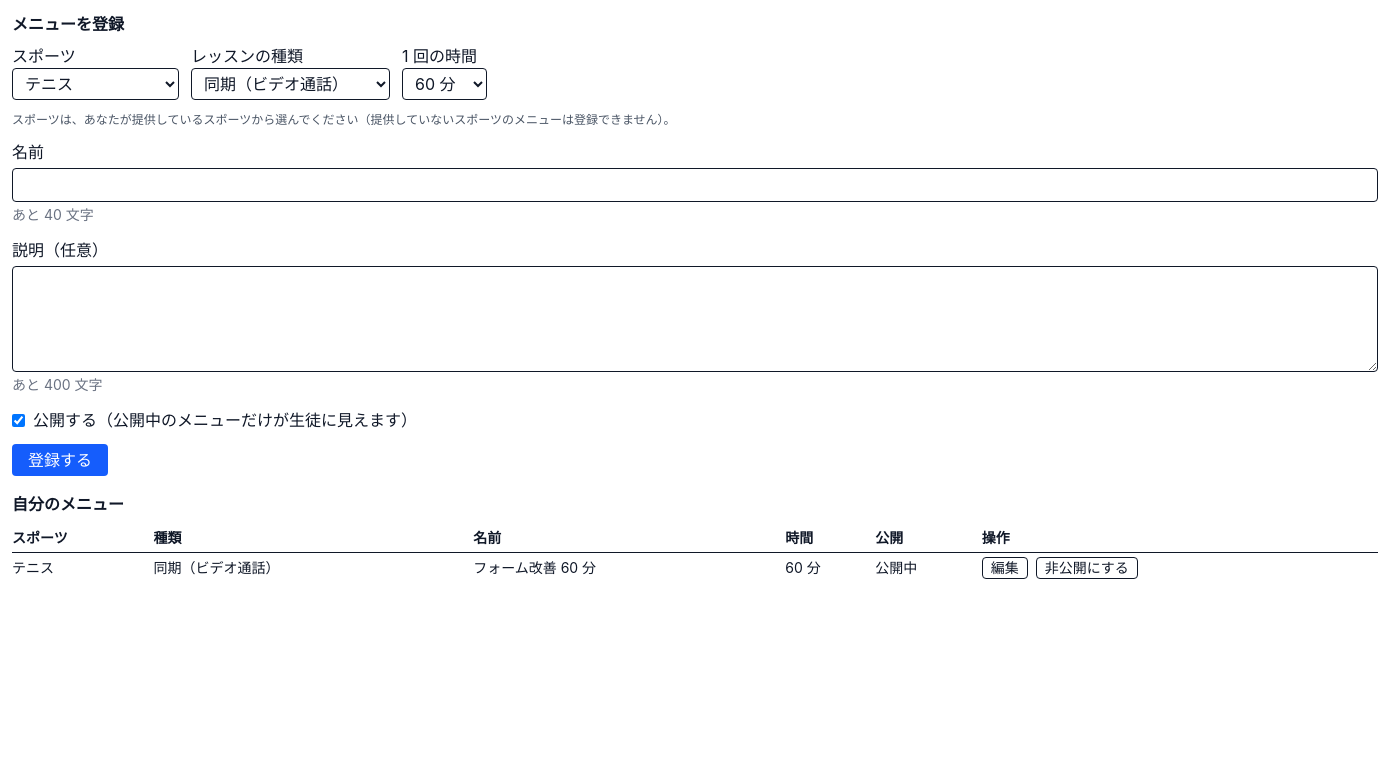
レッスンメニュー › 作成: 入力を createMyLessonMenu に送り、登録した旨を出して一覧を取り直し、欄を空にする
The width and height of the screenshot is (1390, 780).
Expected: the table named "自分のメニュー" is shown, [12,524,1378,583]
Select "サッカー" in the dropdown labelled "スポーツ" at (96, 84), box [12,68,179,100]
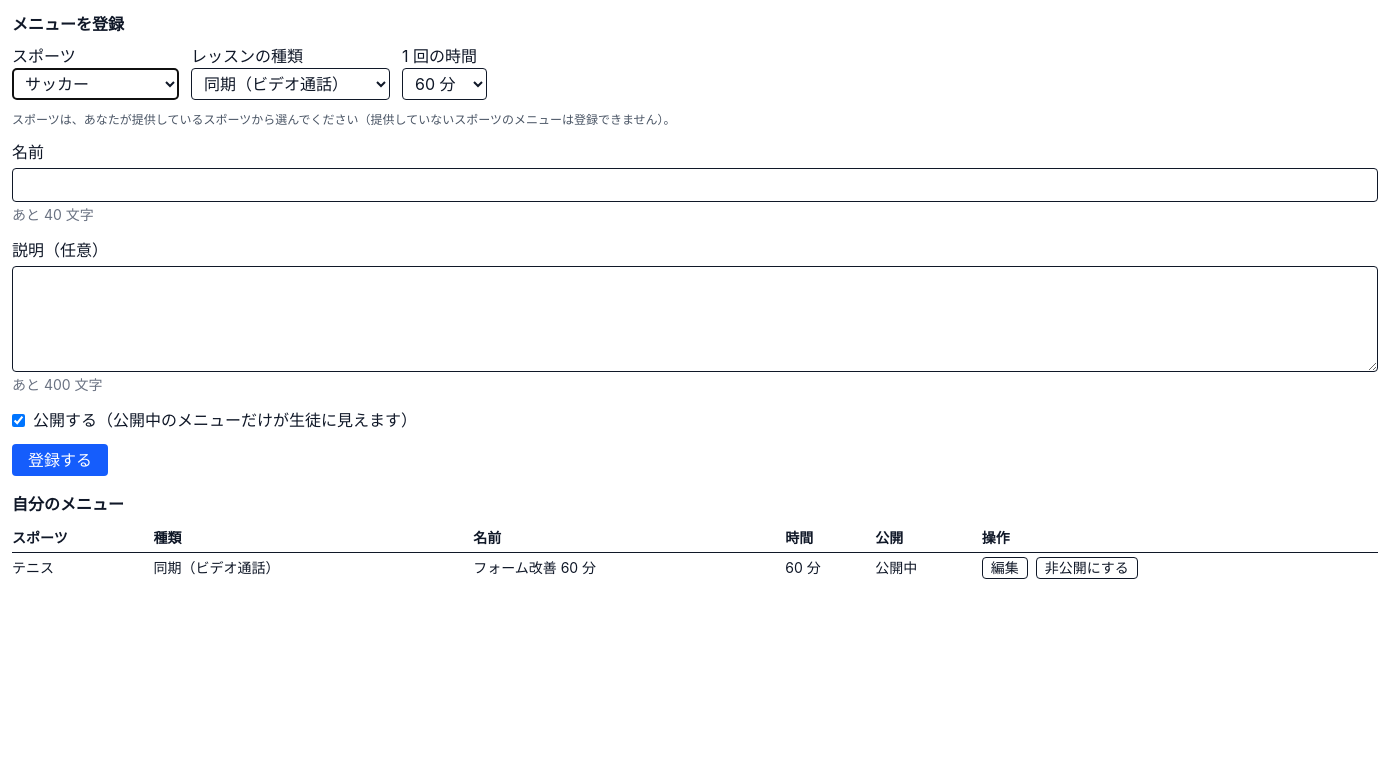
Select "非同期（動画の添削）" in the dropdown labelled "レッスンの種類" at (290, 84), box [191,68,390,100]
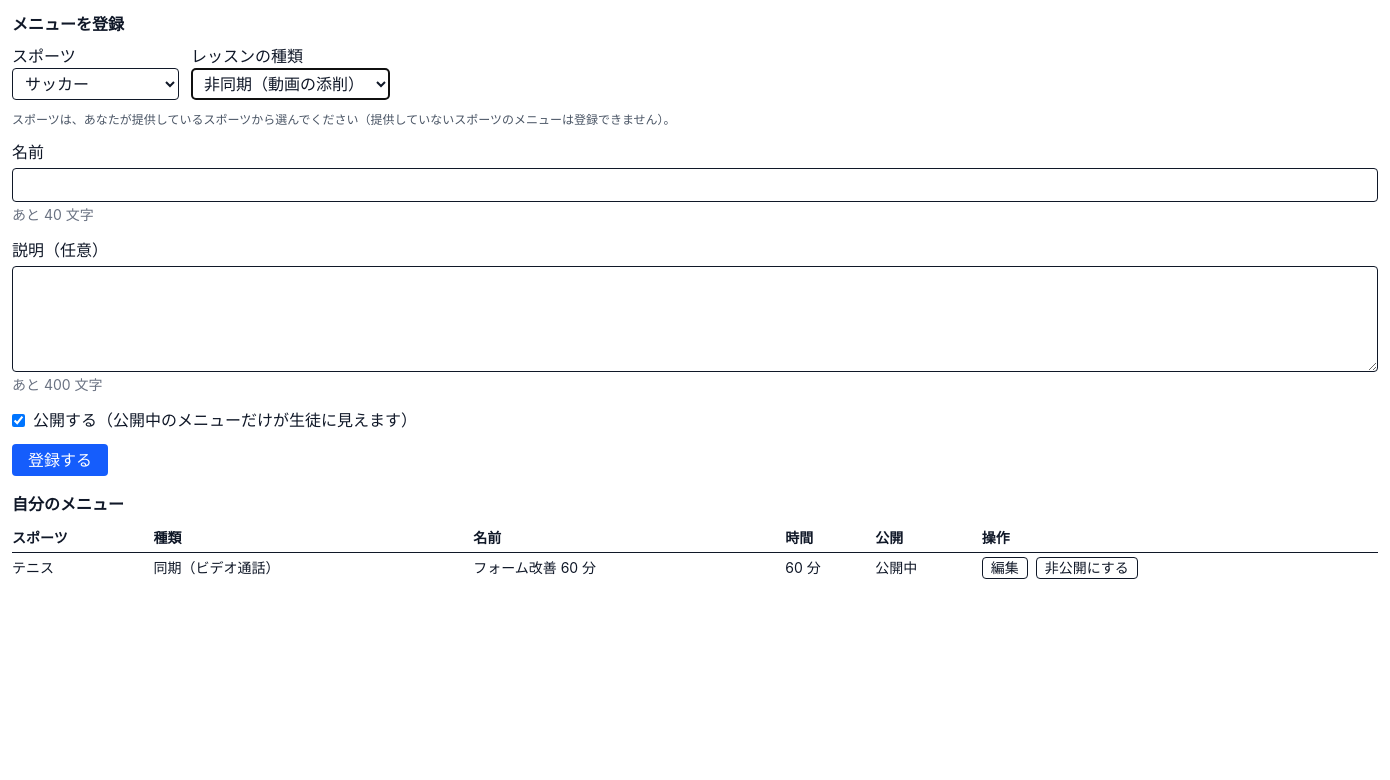
Type "動画で添削" into the field labelled "名前" at (695, 185), box [12,168,1378,202]
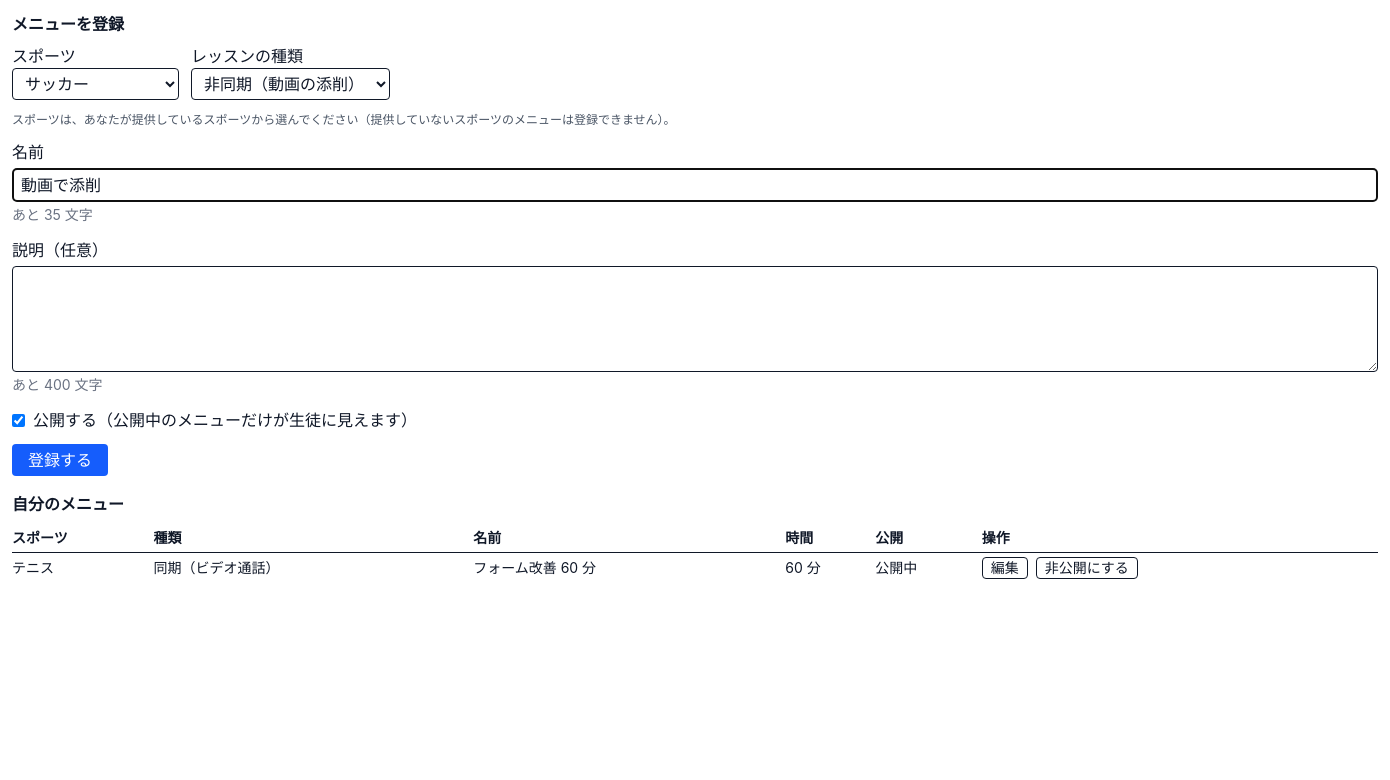
Type "ドリブルの動画を送ってください" into the text box labelled "説明（任意）" at (695, 319), box [12,266,1378,372]
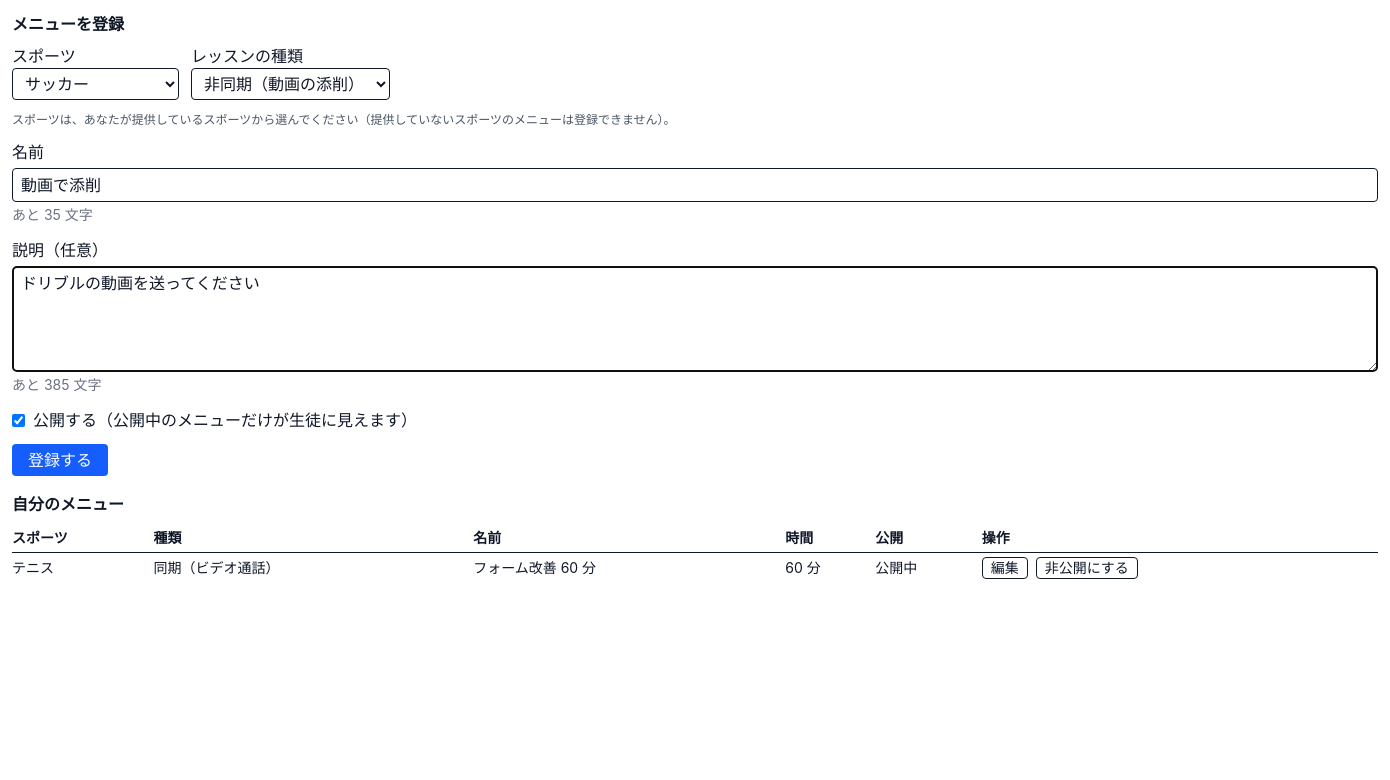
Click the button "登録する" at (60, 460), box [12,444,108,476]
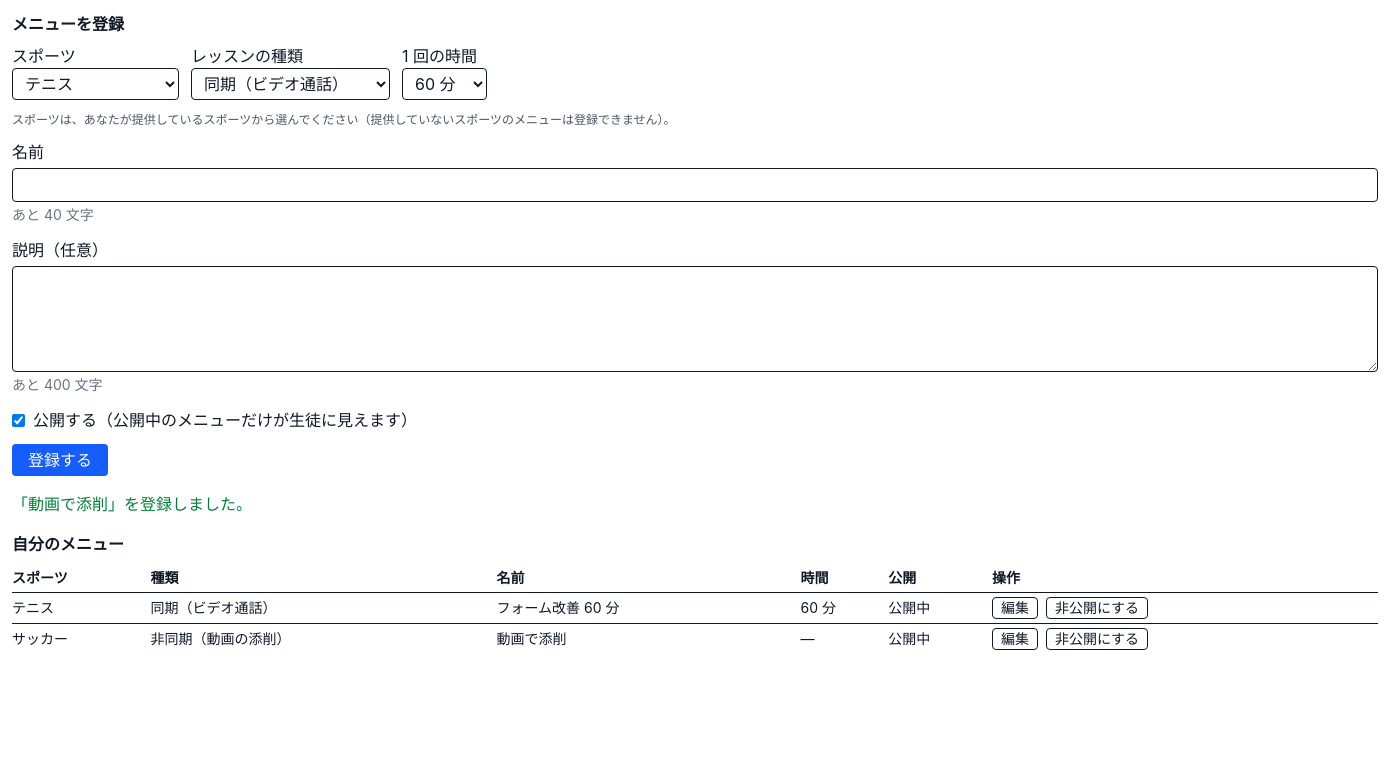
Expected: the message reads "「動画で添削」を登録しました。", [12,494,252,514]
Expected: the cell "動画で添削" is shown, [496,624,800,654]
Expected: the field labelled "名前" is empty, [12,168,1378,202]
